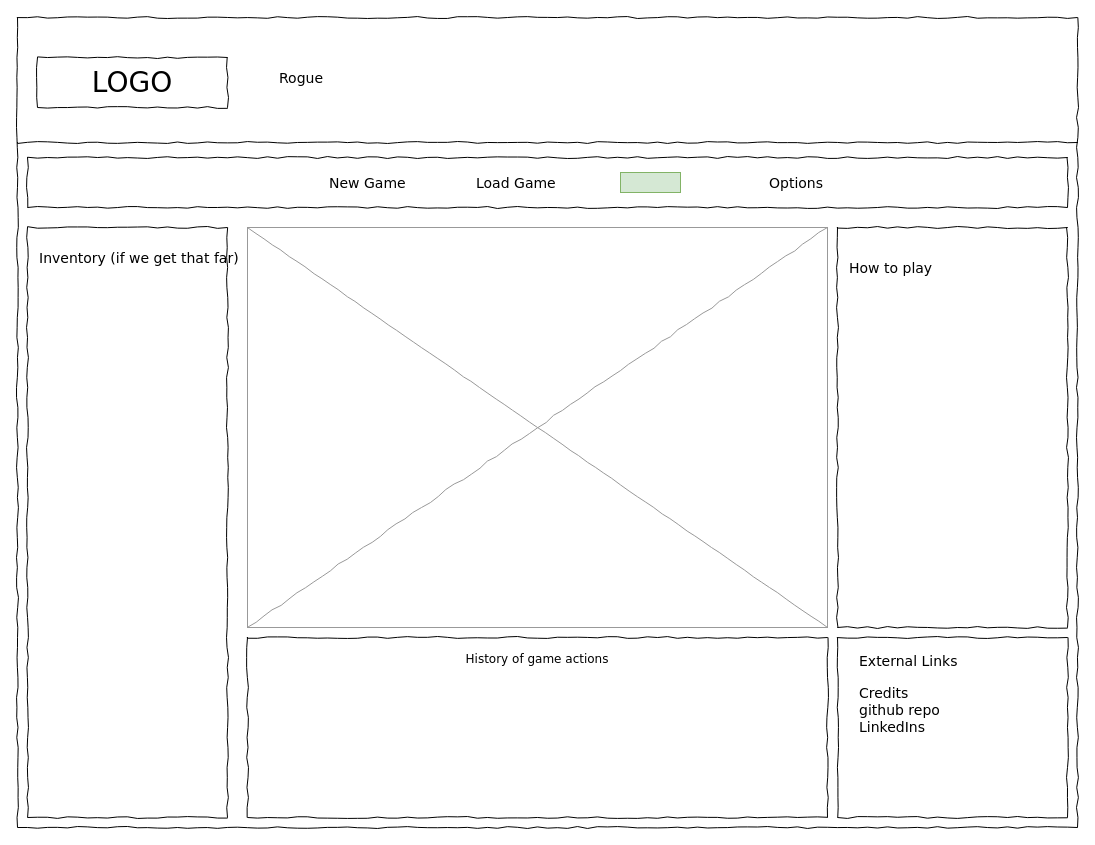
Image size: 1095x845. Some labels were removed from this diagram. The shapes that lost their labels are listed below. From the top down, each one's centre as x and y in pixels, then its label:
the point at 650,182: Save Game
the point at 537,427: feedback that the game is saved
